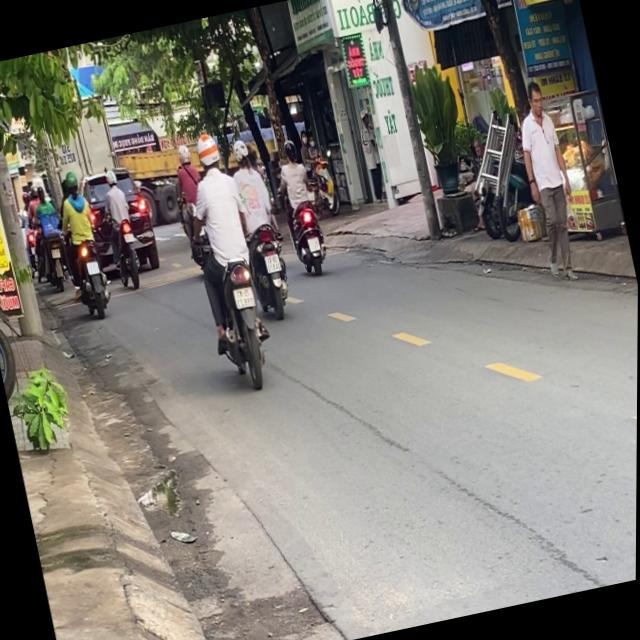helmet: (194, 129, 224, 173), (231, 136, 253, 168), (282, 137, 299, 162)
licenseplate: (169, 125, 283, 391), (223, 131, 300, 321), (270, 134, 335, 278)
nohelmet: (234, 285, 256, 308), (265, 251, 282, 272), (308, 235, 322, 252)
